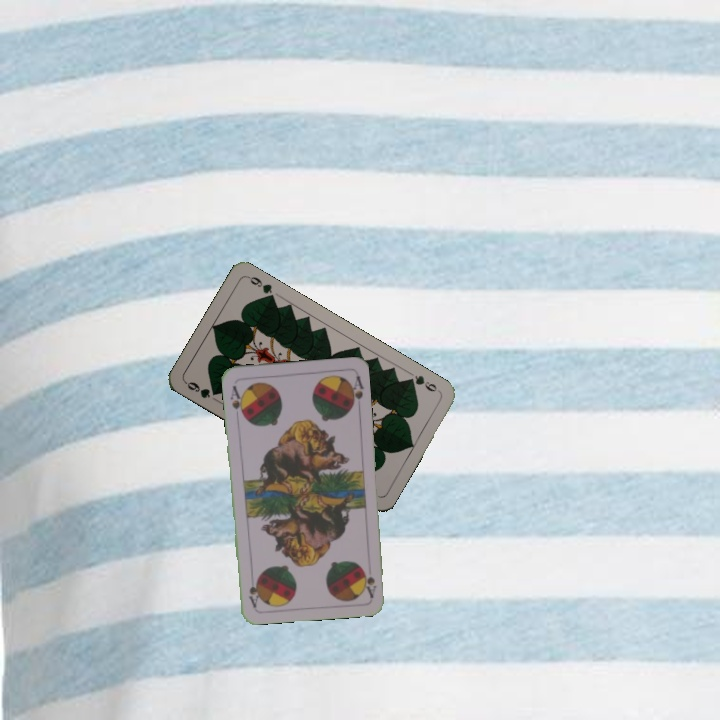G9: (403, 368, 443, 395), (181, 377, 221, 401)
SA: (226, 382, 247, 420), (360, 565, 379, 600)
